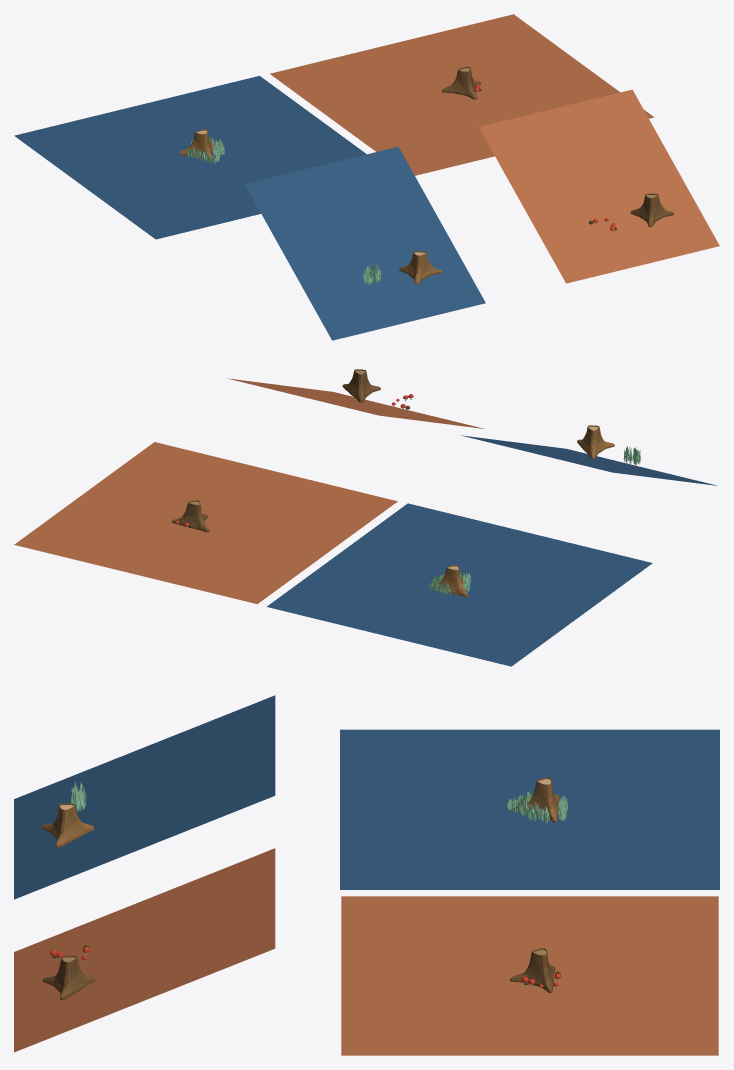
File: trunk.fbx
The picture shows the model from 3 angles, top to bottom: view 1: azimuth 30°, elevation 25°; view 2: azimuth 150°, elevation 25°; view 3: azimuth 270°, elevation 25°; orthographic projection. The views are drawn at different scales.
Visible parts, largest first — view 1: background_1.1, background_2.1, background_2.2, background_1.2, trunk_1.2, trunk_2.2, trunk_2.1, trunk_1.1; view 2: background_1.1, background_2.1, background_1.2, background_2.2, trunk_2.2, trunk_1.2, trunk_2.1, trunk_1.1; view 3: background_1.1, background_2.1, background_2.2, background_1.2, trunk_1.2, trunk_2.2, trunk_2.1, grass_1.1, trunk_1.1.
Part boxes in pixels (<box>): background_1.1: <box>14,76,366,239</box>; background_2.1: <box>270,14,654,175</box>; background_2.2: <box>479,89,719,283</box>; background_1.2: <box>245,146,485,340</box>; trunk_1.2: <box>399,251,442,284</box>; trunk_2.2: <box>630,193,673,226</box>; trunk_2.1: <box>442,66,481,99</box>; trunk_1.1: <box>179,129,214,160</box>; background_1.1: <box>266,503,652,666</box>; background_2.1: <box>14,442,397,604</box>; background_1.2: <box>460,435,717,485</box>; background_2.2: <box>227,378,484,428</box>; trunk_2.2: <box>342,369,380,402</box>; trunk_1.2: <box>577,425,614,458</box>; trunk_2.1: <box>172,500,209,532</box>; trunk_1.1: <box>431,565,468,597</box>; background_1.1: <box>340,729,719,889</box>; background_2.1: <box>341,896,718,1055</box>; background_2.2: <box>14,848,275,1052</box>; background_1.2: <box>14,695,275,899</box>; trunk_1.2: <box>41,803,94,847</box>; trunk_2.2: <box>43,955,95,1000</box>; trunk_2.1: <box>510,948,555,992</box>; grass_1.1: <box>507,790,568,823</box>; trunk_1.1: <box>514,777,559,822</box>.
Size of the model in its own units: 4908 by 776 by 4489.
Materials: 13 (2 with a texture image).
